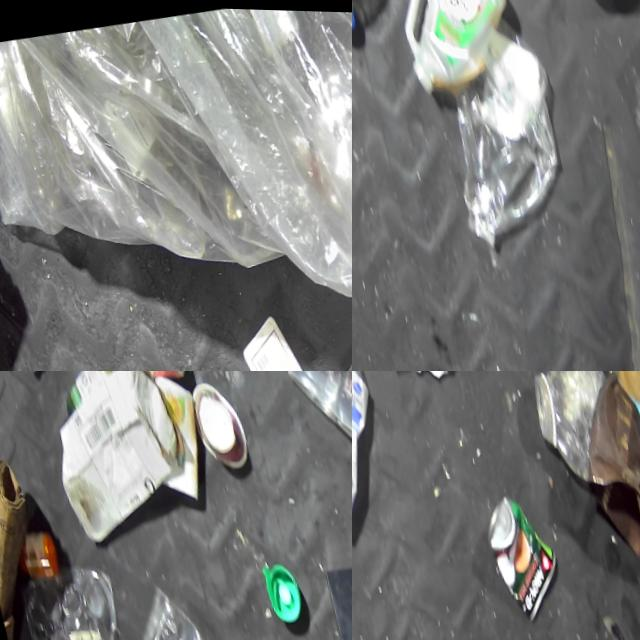can: (473, 485, 565, 623), (130, 371, 192, 388)
milk_jug: (229, 305, 345, 371), (608, 180, 640, 371)
non_white_jug: (375, 0, 523, 105)
